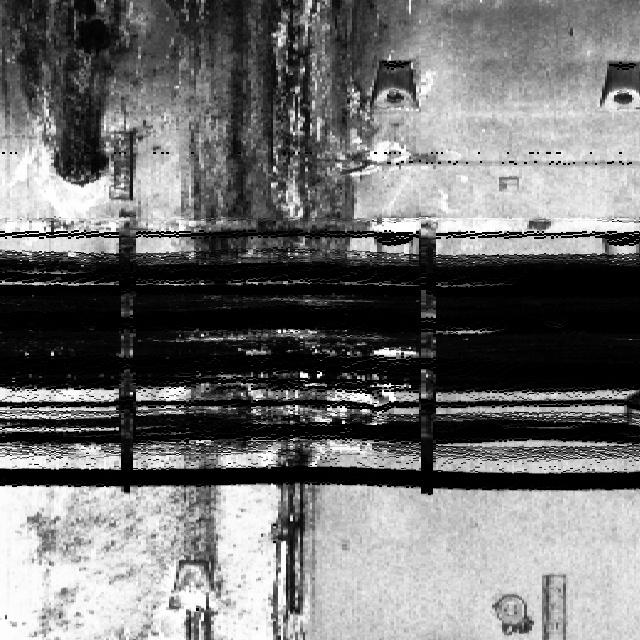leakage: (0, 0, 378, 248), (171, 421, 227, 639), (268, 427, 323, 639)
